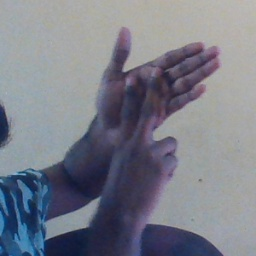N: (88, 26, 229, 191)
